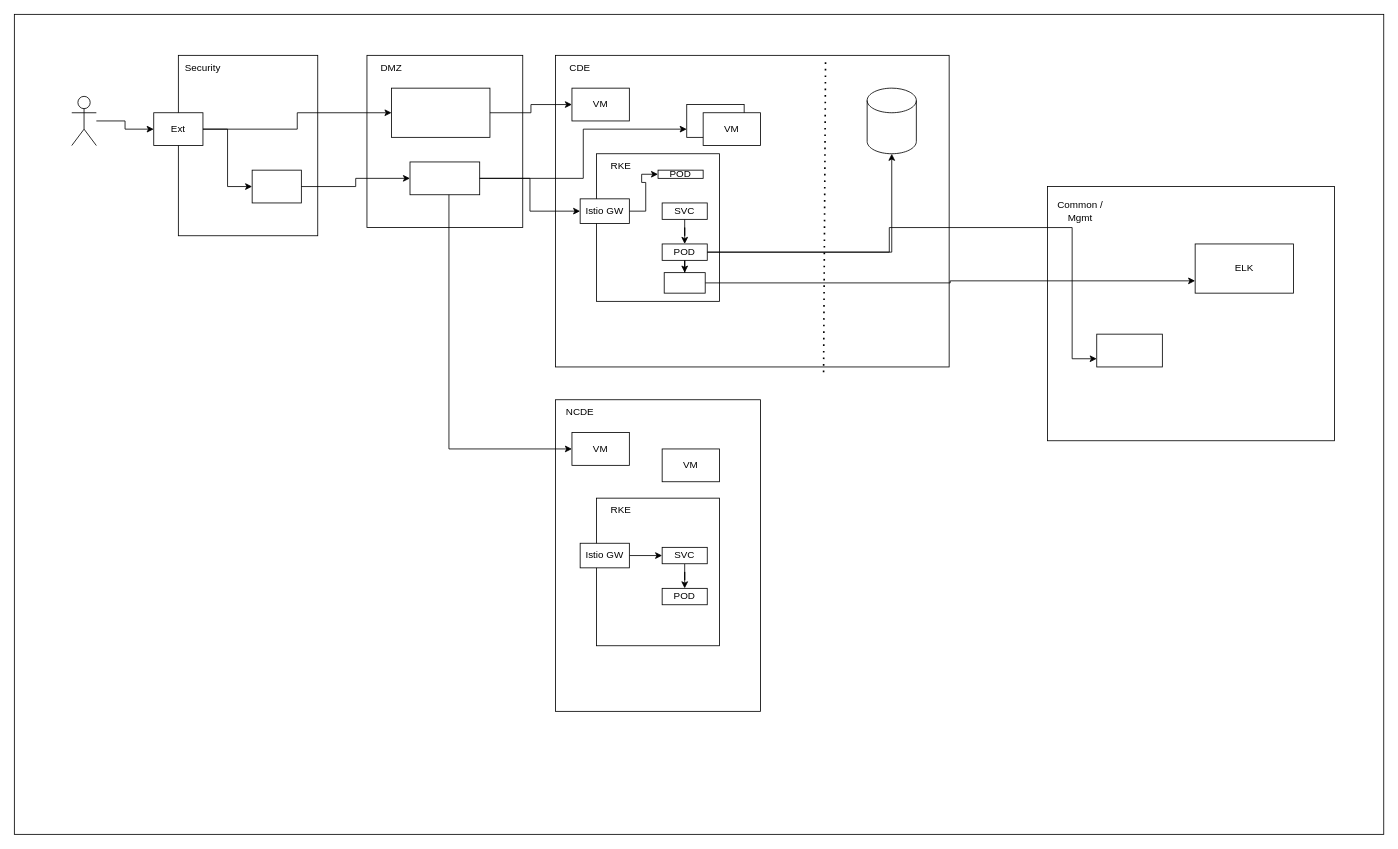
This 1398x849 diagram has some shape labels left out. Here are the shapes that lost their labels. From the top down, the centre of each, then its label:
point 83,121: Actor
point 440,112: Network LB
point 891,120: DB
point 276,186: WAF
point 444,178: API Gateway
point 684,282: APM Server
point 1129,350: Hashicorp Vault
